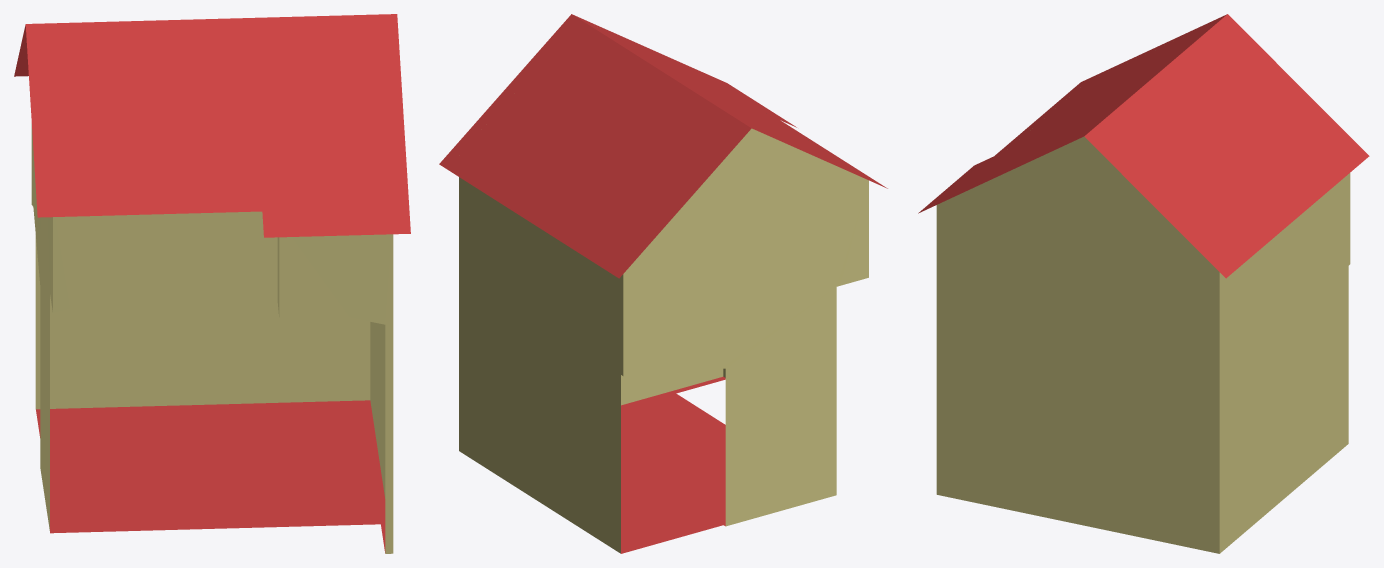
3 renders of one model, left to right at view 1: azimuth 30°, elevation 25°; view 2: azimuth 150°, elevation 25°; view 3: azimuth 270°, elevation 25°, orthographic. The views are drawn at different scales.
Parts seen in each view (by area): view 1: group_3, group_5, group_6, group_4; view 2: group_5, group_3, group_6, group_4; view 3: group_5, group_3, group_4.
Part boxes in pixels (<box>): group_3: <box>14,14,410,237</box>; group_5: <box>31,124,393,553</box>; group_6: <box>36,400,385,552</box>; group_4: <box>25,14,397,237</box>; group_5: <box>459,128,868,553</box>; group_3: <box>459,14,868,259</box>; group_6: <box>621,376,725,553</box>; group_4: <box>439,15,887,278</box>; group_5: <box>936,136,1350,553</box>; group_3: <box>918,14,1350,259</box>; group_4: <box>991,14,1369,278</box>.
Size of the model in its own units: 15.15 by 15.83 by 15.29.
